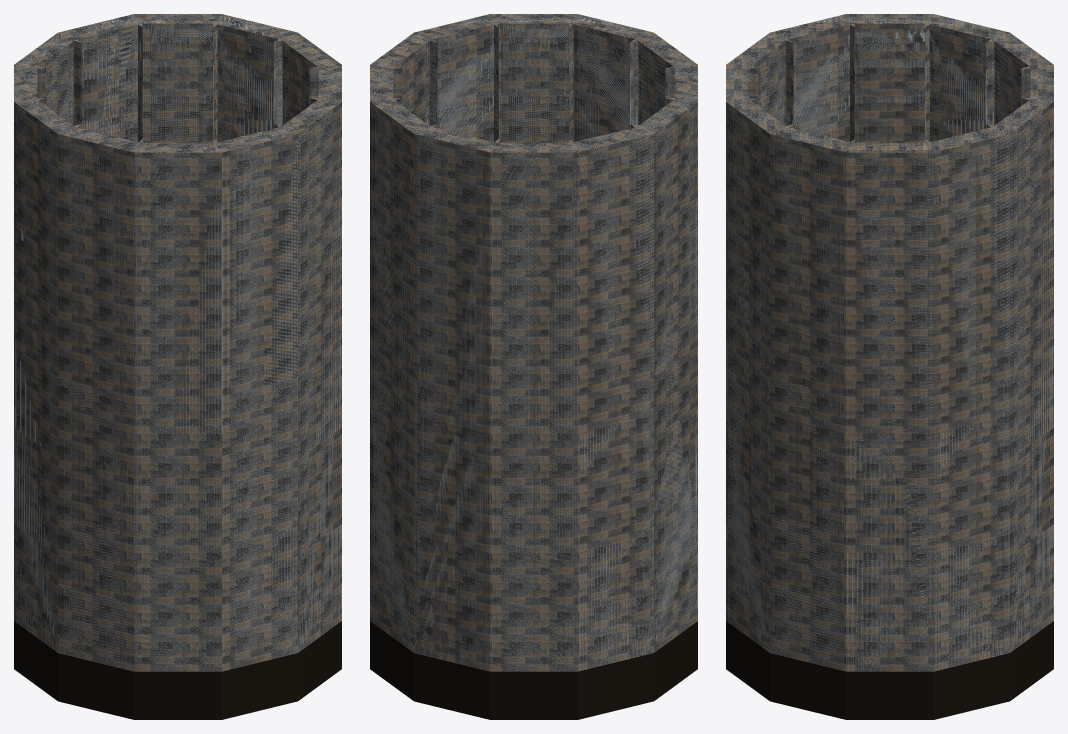
Rendered from base platform.fbx.
The picture shows the model from 3 angles, left to right: view 1: azimuth 30°, elevation 25°; view 2: azimuth 150°, elevation 25°; view 3: azimuth 270°, elevation 25°; orthographic projection.
Visible parts, largest first — view 1: Group2, Group4; view 2: Group2, Group4; view 3: Group2, Group4.
Boxes of the visible parts, x1,y1,x2,y2 form: Group2: [14, 14, 341, 671]; Group4: [14, 621, 341, 719]; Group2: [370, 14, 697, 671]; Group4: [370, 621, 697, 719]; Group2: [726, 14, 1053, 671]; Group4: [726, 621, 1053, 719].
Size of the model in its own units: 1019 by 1946 by 1019.
